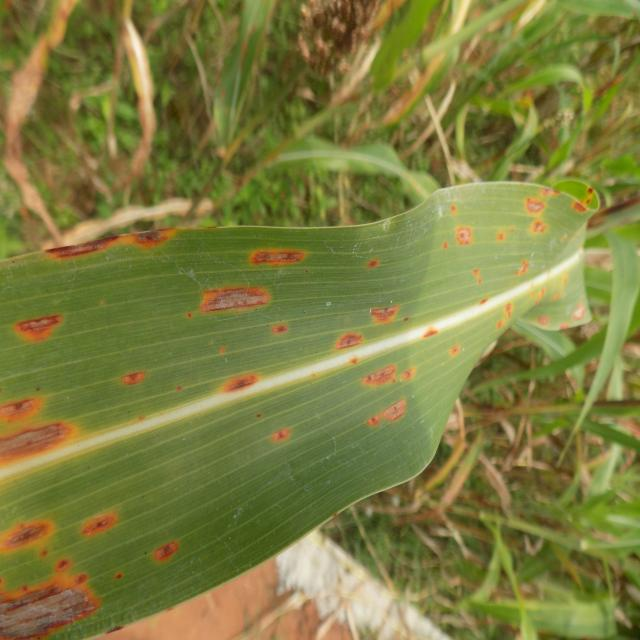millet_rust: (0, 181, 600, 639)
